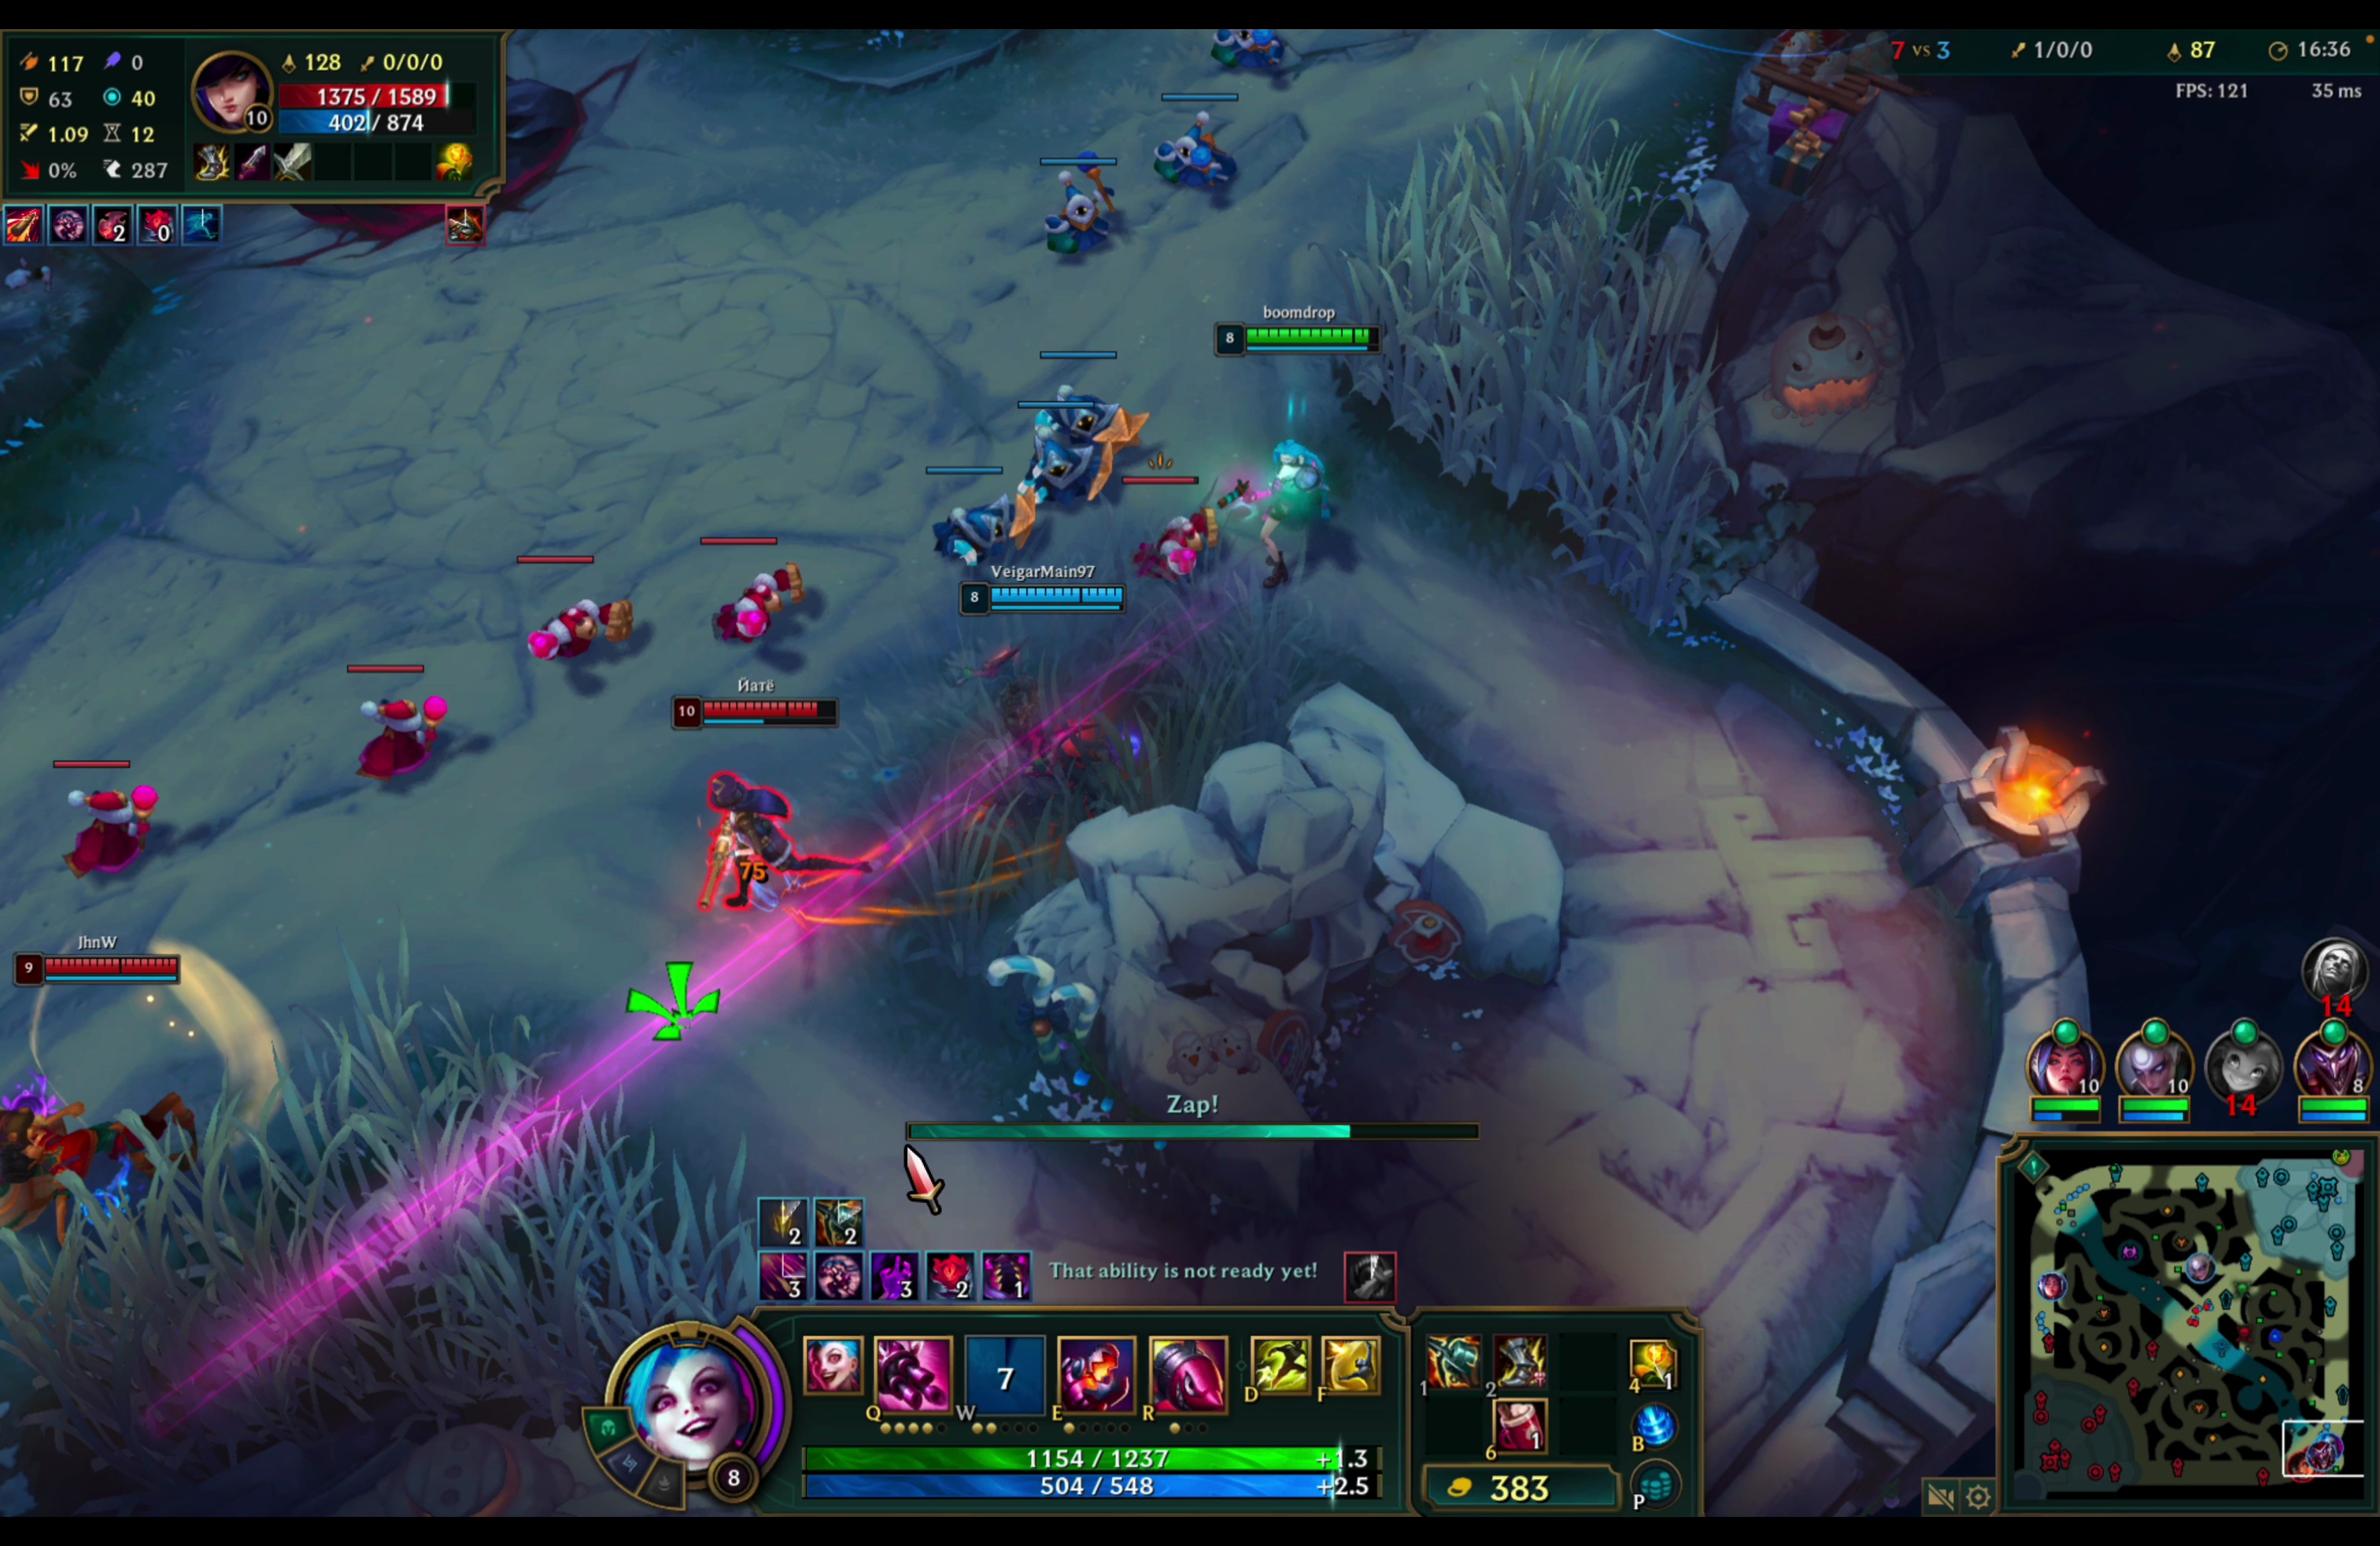JINX_W_PROJECTILE: (35, 298, 1389, 1490)
